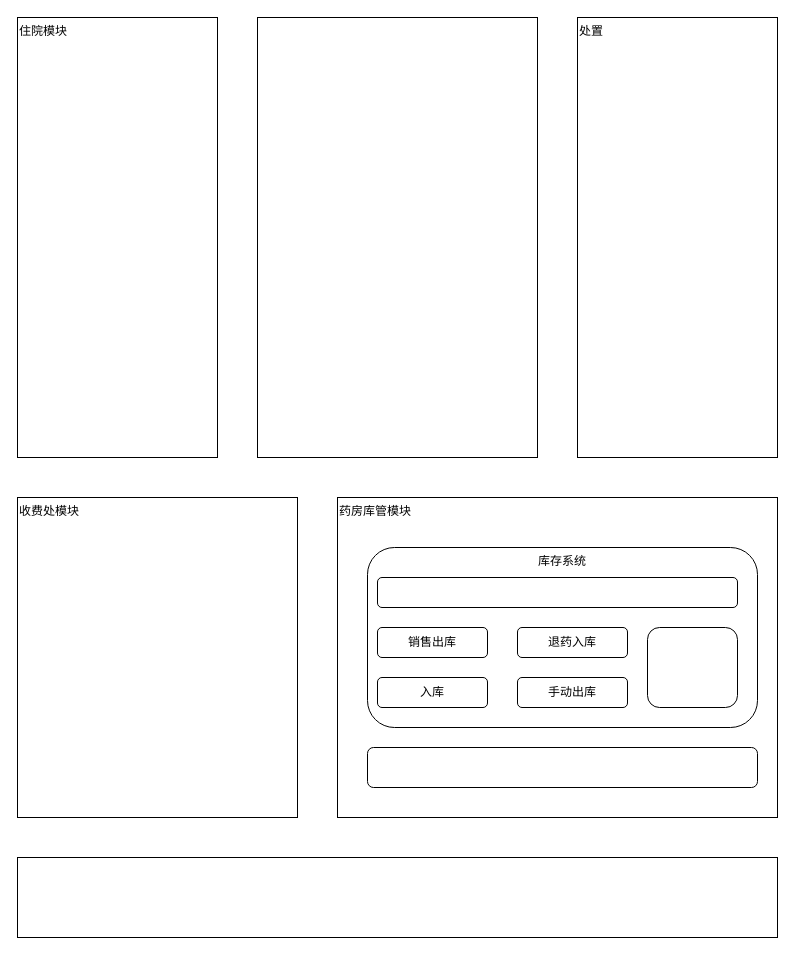
Image size: 795x955. Some labels were removed from this diagram. The shapes that lost their labels are listed below. From the top down, each one's centre as x and y in pixels, then its label:
point 397,237: 门诊模块
point 557,592: 库存统计
point 692,667: 临期提醒
point 562,767: 药品添加
point 397,897: 医院统管模块
